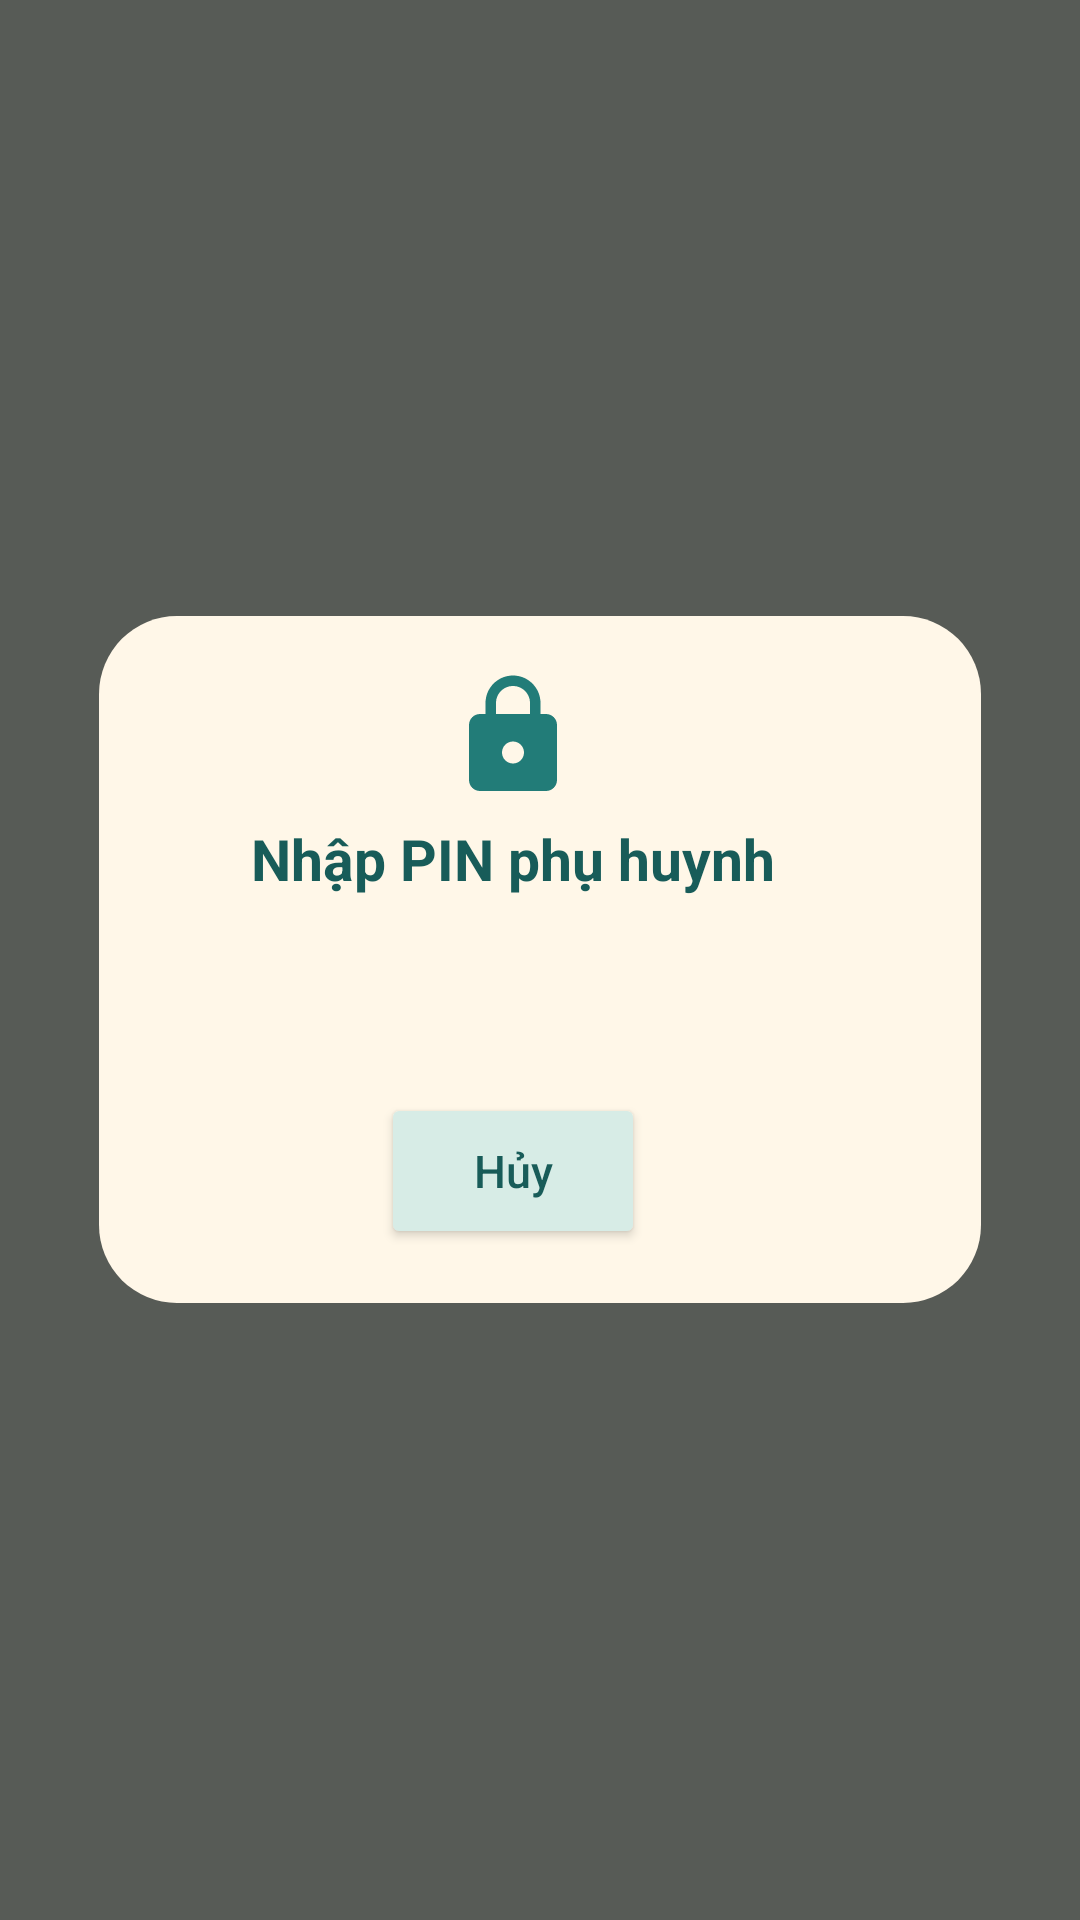

Where to tap for icons on this 1080x1920 app screen, as point (x, y):
lock: point (513, 733)
